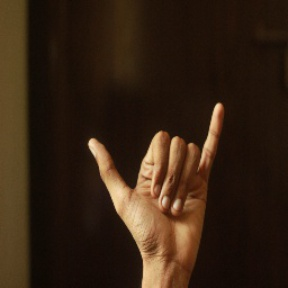J: (84, 90, 226, 252)
